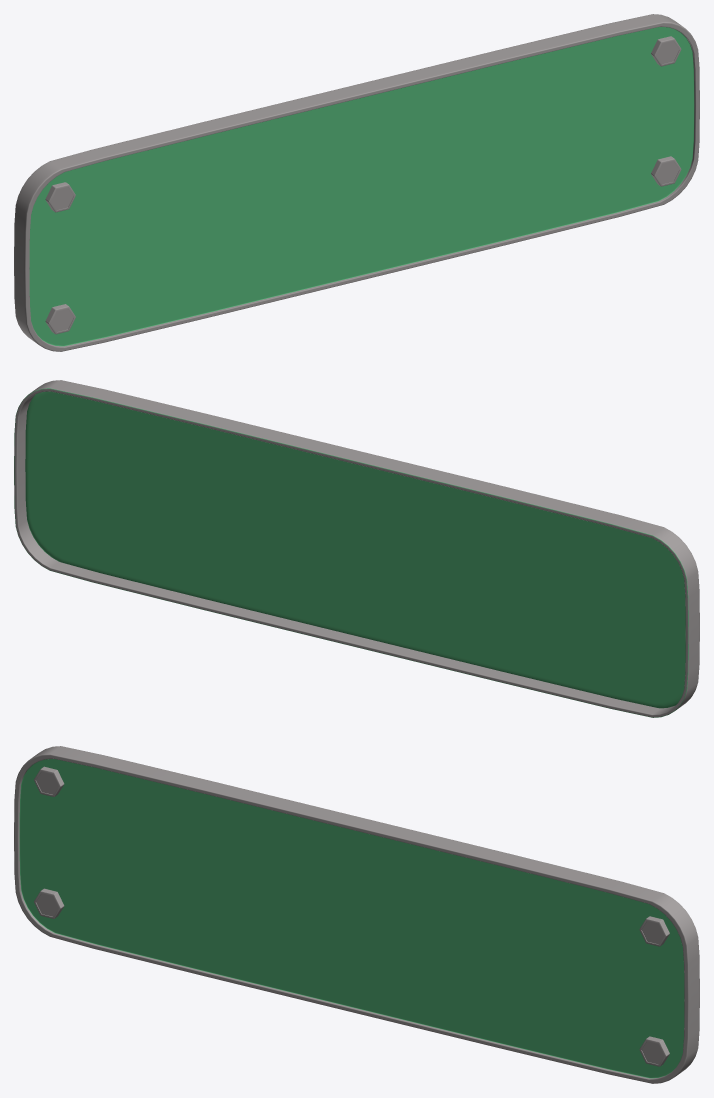
Rendered from CartelVerde.fbx.
3 views of the same model, one above another, from view 1: azimuth 30°, elevation 25°; view 2: azimuth 150°, elevation 25°; view 3: azimuth 330°, elevation 25° (orthographic).
Visible parts, largest first — view 1: Cartel_high, Tornillos_high; view 2: Cartel_high; view 3: Cartel_high, Tornillos_high.
Boxes of the visible parts, left/top/right/bottom form: Cartel_high: left=14, top=14, right=699, bottom=351; Tornillos_high: left=45, top=36, right=681, bottom=334; Cartel_high: left=14, top=380, right=699, bottom=717; Cartel_high: left=14, top=746, right=699, bottom=1083; Tornillos_high: left=34, top=766, right=669, bottom=1066.
Bounding box in the file's own units: 0.0379 × 0.01 × 0.00131.
